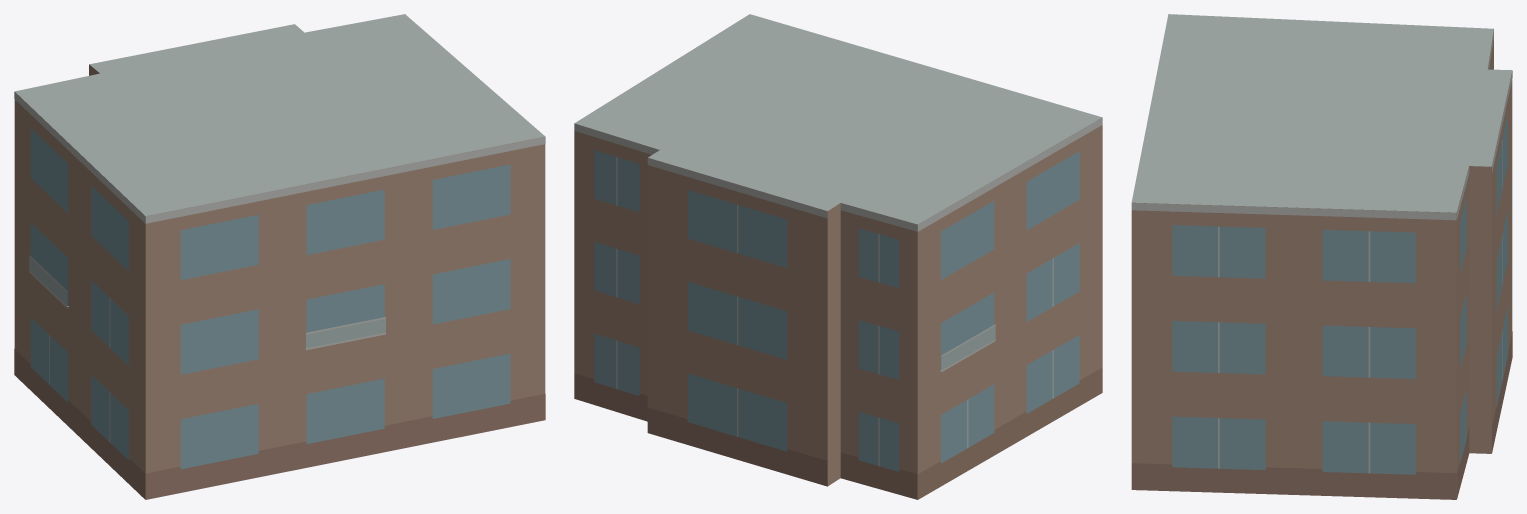
Rendered from survey-upis-32908519.glb.
3 renders of one model, left to right at view 1: azimuth 30°, elevation 25°; view 2: azimuth 150°, elevation 25°; view 3: azimuth 270°, elevation 25°, orthographic. The views are drawn at different scales.
Visible parts, largest first — view 1: survey-upis-32908519.tmp; view 2: survey-upis-32908519.tmp; view 3: survey-upis-32908519.tmp.
Boxes of the visible parts, x1,y1,x2,y2 form: survey-upis-32908519.tmp: [14, 14, 545, 499]; survey-upis-32908519.tmp: [574, 14, 1102, 499]; survey-upis-32908519.tmp: [1131, 14, 1512, 499].
Size of the model in its own units: 13.58 by 9.15 by 11.01.
